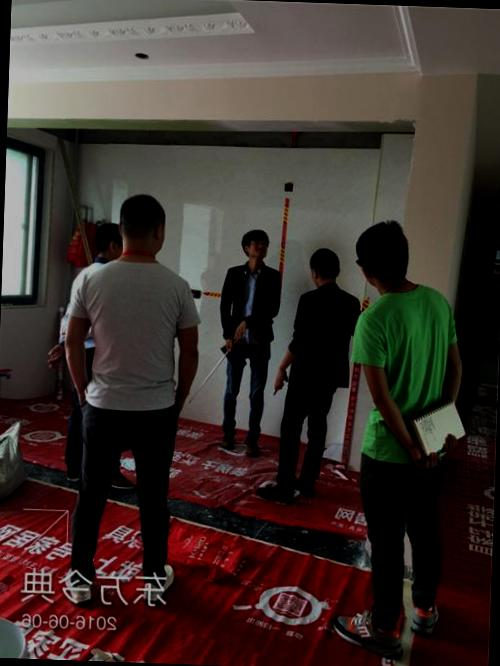no_helmet: (349, 212, 416, 298), (114, 188, 172, 265), (302, 246, 348, 292), (89, 218, 127, 268), (234, 226, 270, 264)
